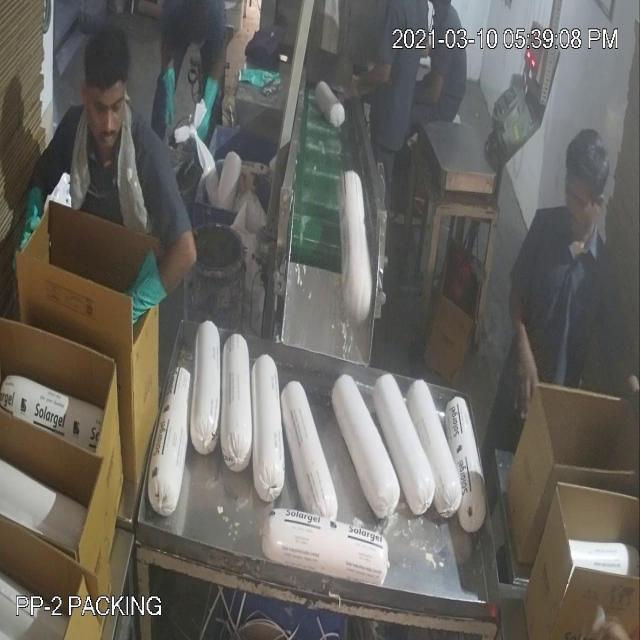No_Gloves: (50, 47, 525, 352)
